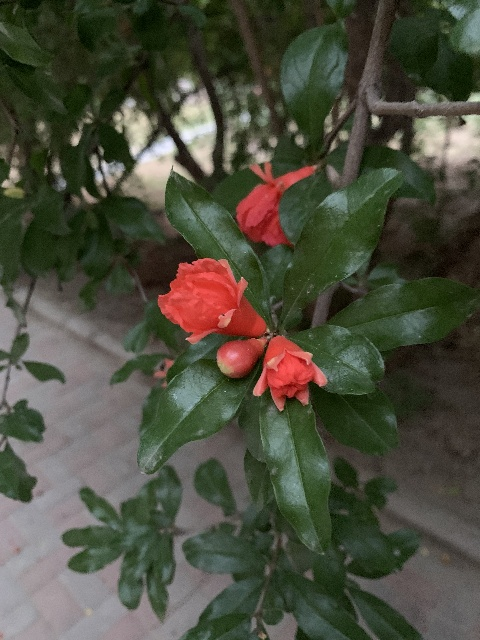bud: (216, 337, 265, 378)
flower: (157, 257, 266, 345), (235, 160, 314, 248), (253, 335, 327, 410)
